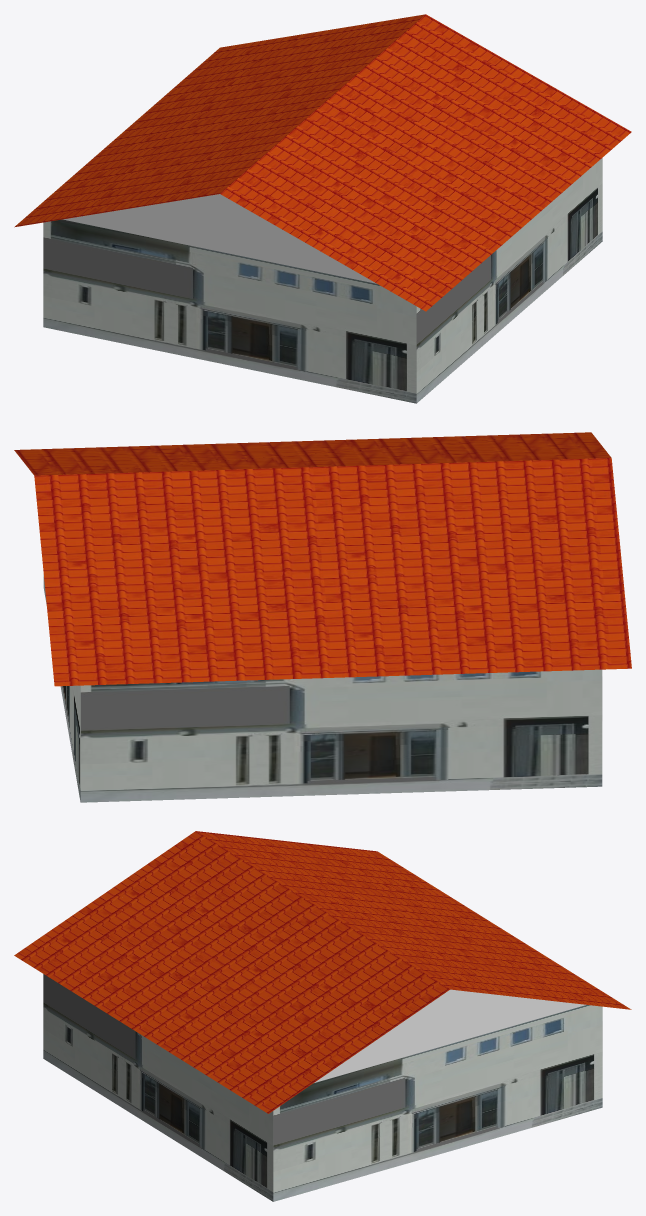
3 renders of one model, top to bottom at view 1: azimuth 30°, elevation 25°; view 2: azimuth 150°, elevation 25°; view 3: azimuth 270°, elevation 25°, orthographic. The views are drawn at different scales.
Visible parts, largest first — view 1: CityEngineMaterial_12_m, CityEngineMaterial_11_m, CityEngineMaterial_3_m; view 2: CityEngineMaterial_12_m, CityEngineMaterial_11_m; view 3: CityEngineMaterial_12_m, CityEngineMaterial_11_m, CityEngineMaterial_3_m.
Part boxes in pixels (x1,y1,x2,y2): CityEngineMaterial_12_m: (14,14,631,311); CityEngineMaterial_11_m: (43,158,602,403); CityEngineMaterial_3_m: (63,194,376,283); CityEngineMaterial_12_m: (14,432,631,686); CityEngineMaterial_11_m: (43,575,602,802); CityEngineMaterial_12_m: (14,831,631,1113); CityEngineMaterial_11_m: (43,974,602,1201); CityEngineMaterial_3_m: (314,989,586,1082).
Size of the model in its own units: 28.4 by 8.71 by 28.23.
